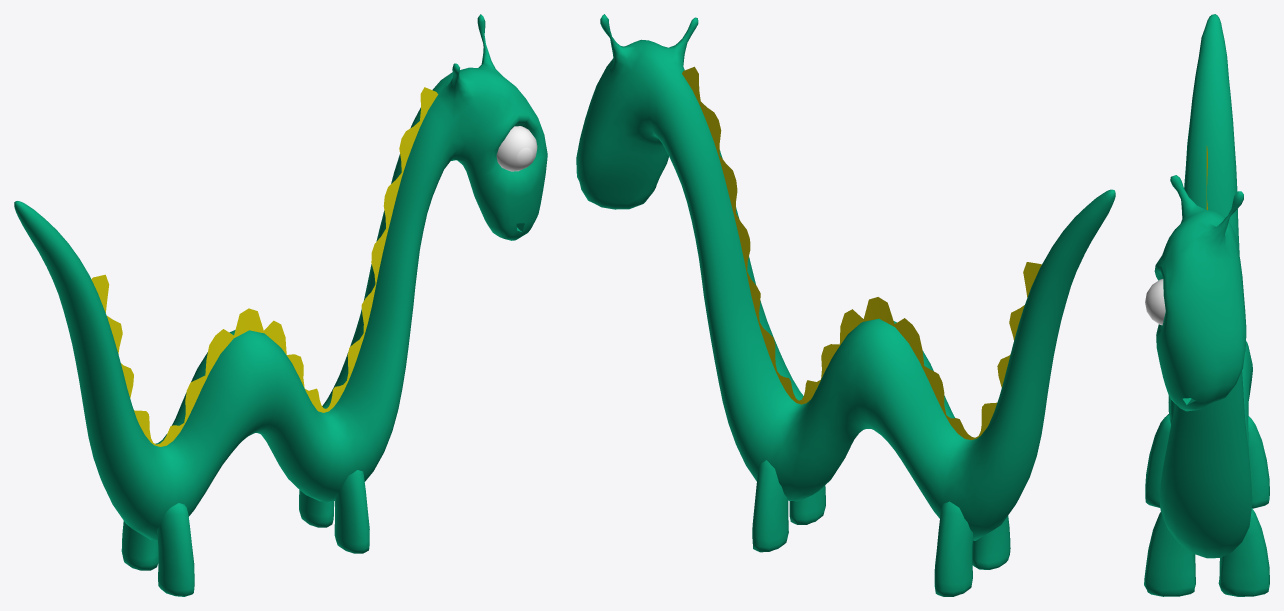
The picture shows the model from 3 angles, left to right: view 1: azimuth 30°, elevation 25°; view 2: azimuth 150°, elevation 25°; view 3: azimuth 270°, elevation 25°; orthographic projection. The views are drawn at different scales.
Parts seen in each view (by area): view 1: W, Shape001, Sphere080; view 2: W, Shape001; view 3: W, Sphere080.
Boxes of the visible parts, box(x1,y1,x2,y2) form: W: box(14, 14, 547, 596); Shape001: box(91, 87, 438, 446); Sphere080: box(496, 126, 537, 171); W: box(576, 14, 1115, 596); Shape001: box(682, 66, 1041, 440); W: box(1144, 14, 1269, 596); Sphere080: box(1145, 279, 1165, 325).
Bounding box in the file's own units: 0.1833 × 0.1584 × 0.0373.
